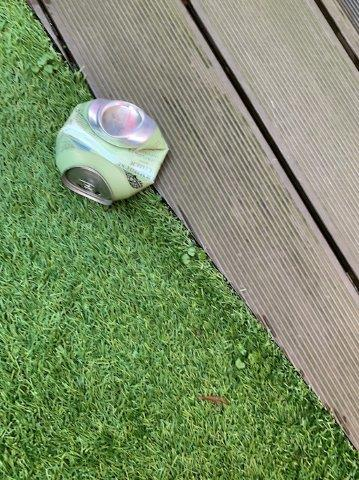kaleng: (56, 100, 169, 206)
